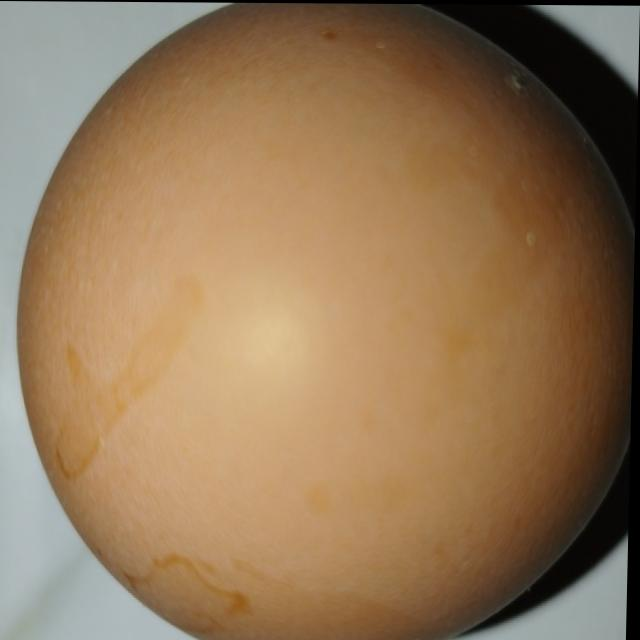fresh: (11, 0, 640, 640)
